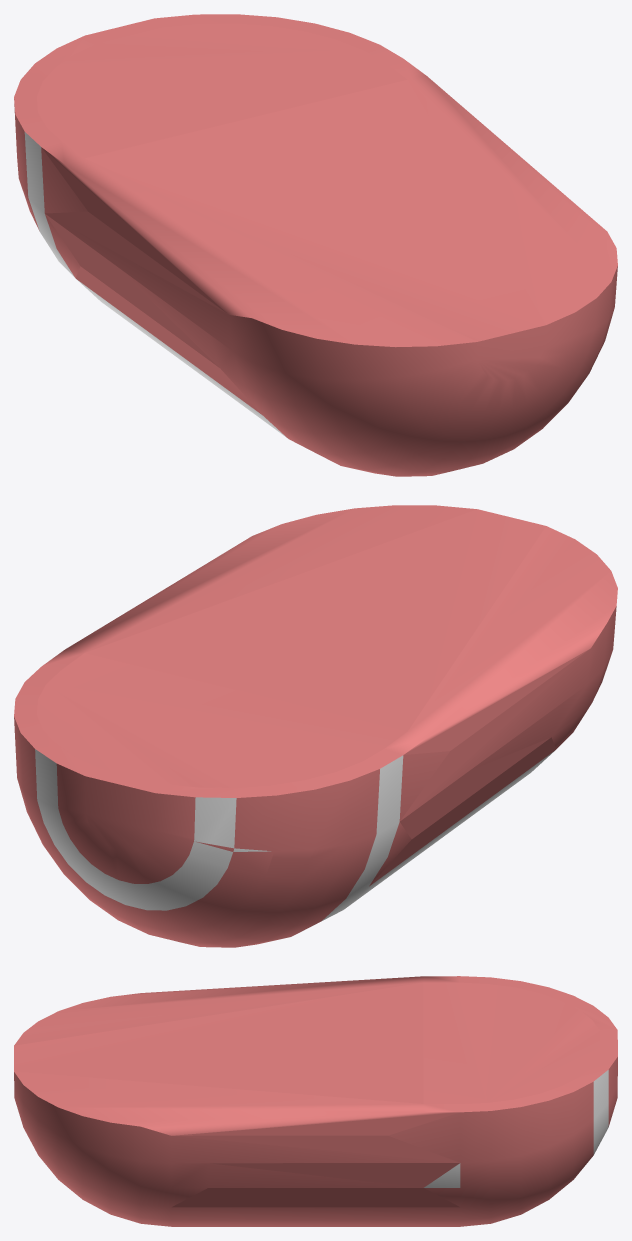
The model's file is boath v2.fbx.
3 views of the same model, one above another, from view 1: azimuth 30°, elevation 25°; view 2: azimuth 150°, elevation 25°; view 3: azimuth 270°, elevation 25° (orthographic). The views are drawn at different scales.
Parts seen in each view (by area): view 1: Капсула_2_4; view 2: Капсула_2_4; view 3: Капсула_2_4.
Boxes of the visible parts, <box> form: Капсула_2_4: <box>14,14,617,476</box>; Капсула_2_4: <box>14,505,617,947</box>; Капсула_2_4: <box>14,976,617,1226</box>.
Size of the model in its own units: 112 by 64.62 by 210.
